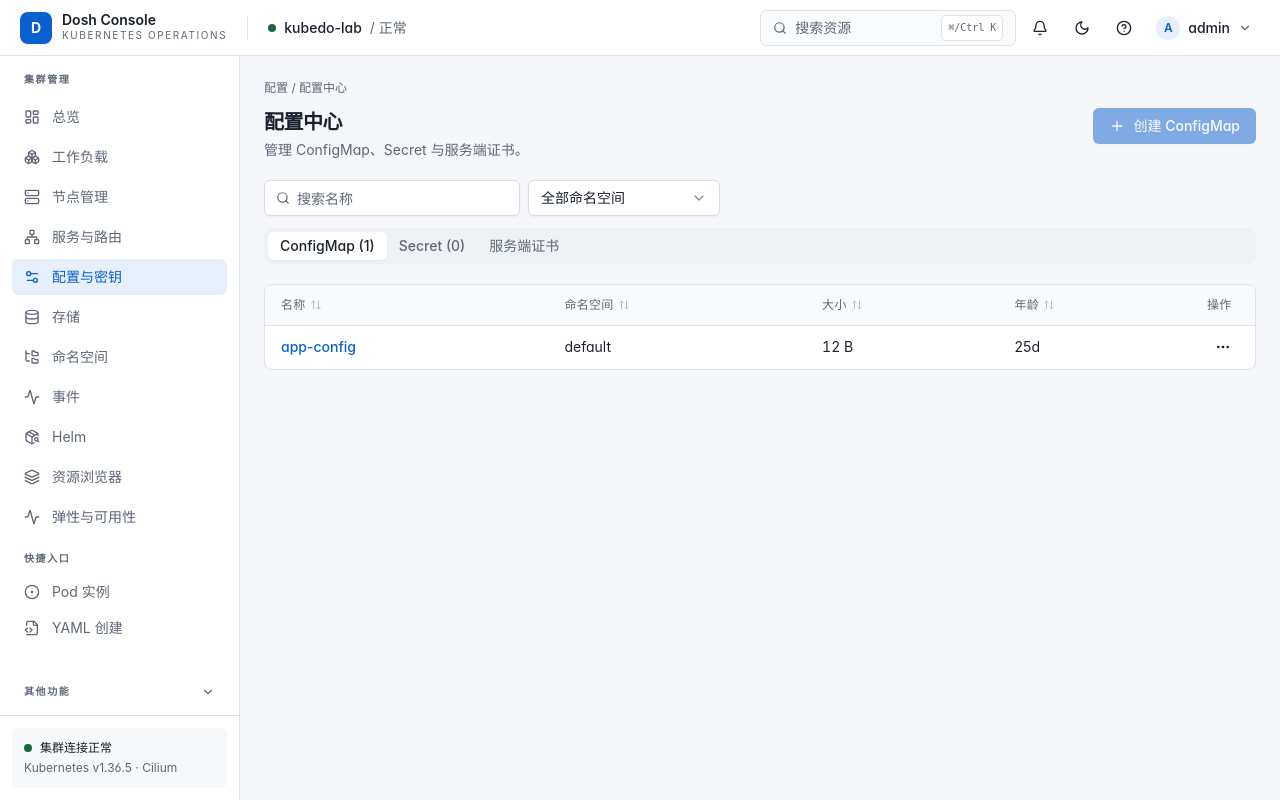
Test: dosh application › keeps ConfigMaps visible when Secret access is forbidden
Expected: the cell "app-config" is shown, [265, 325, 548, 369]
Expected: the text "没有访问权限" is not shown
Press the mouse on the tab "Secret (0)" at [432, 246], box [387, 232, 477, 260]
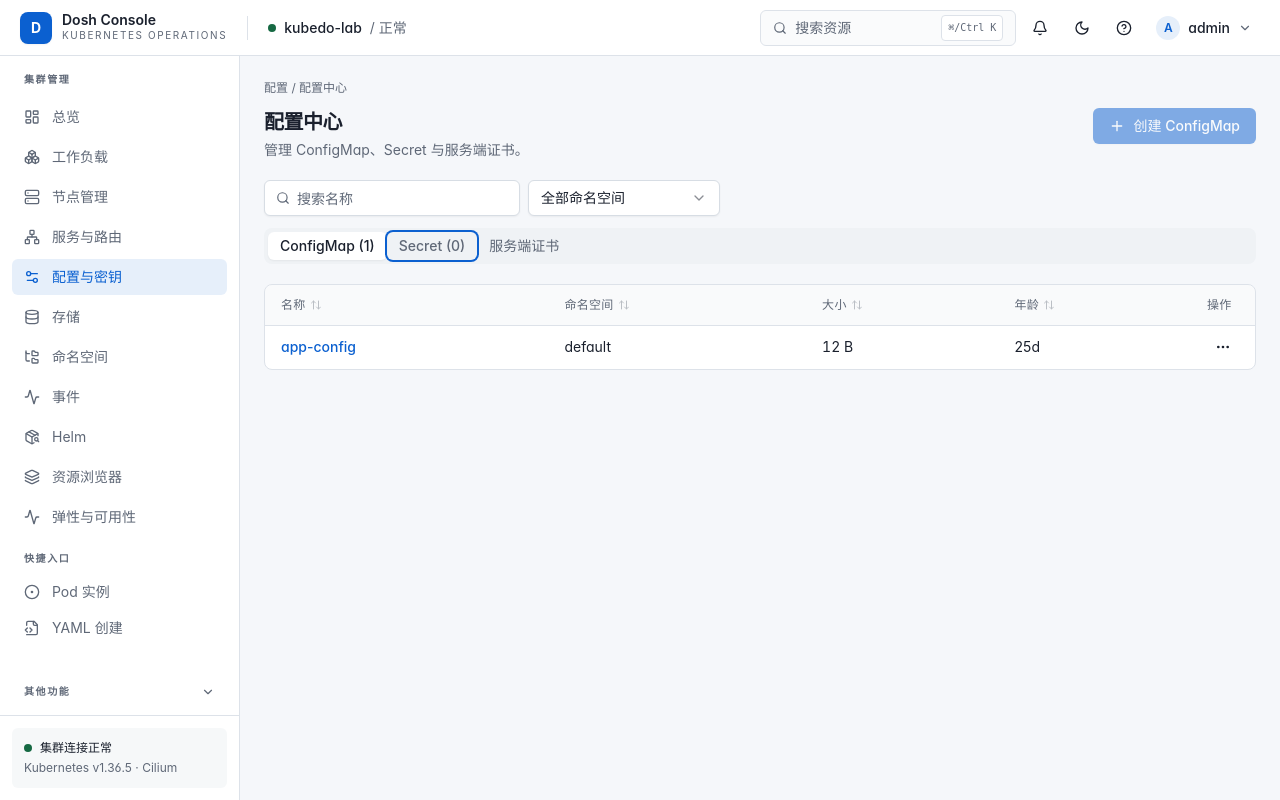
Click the tab "Secret (0)" at [432, 246], box [387, 232, 477, 260]
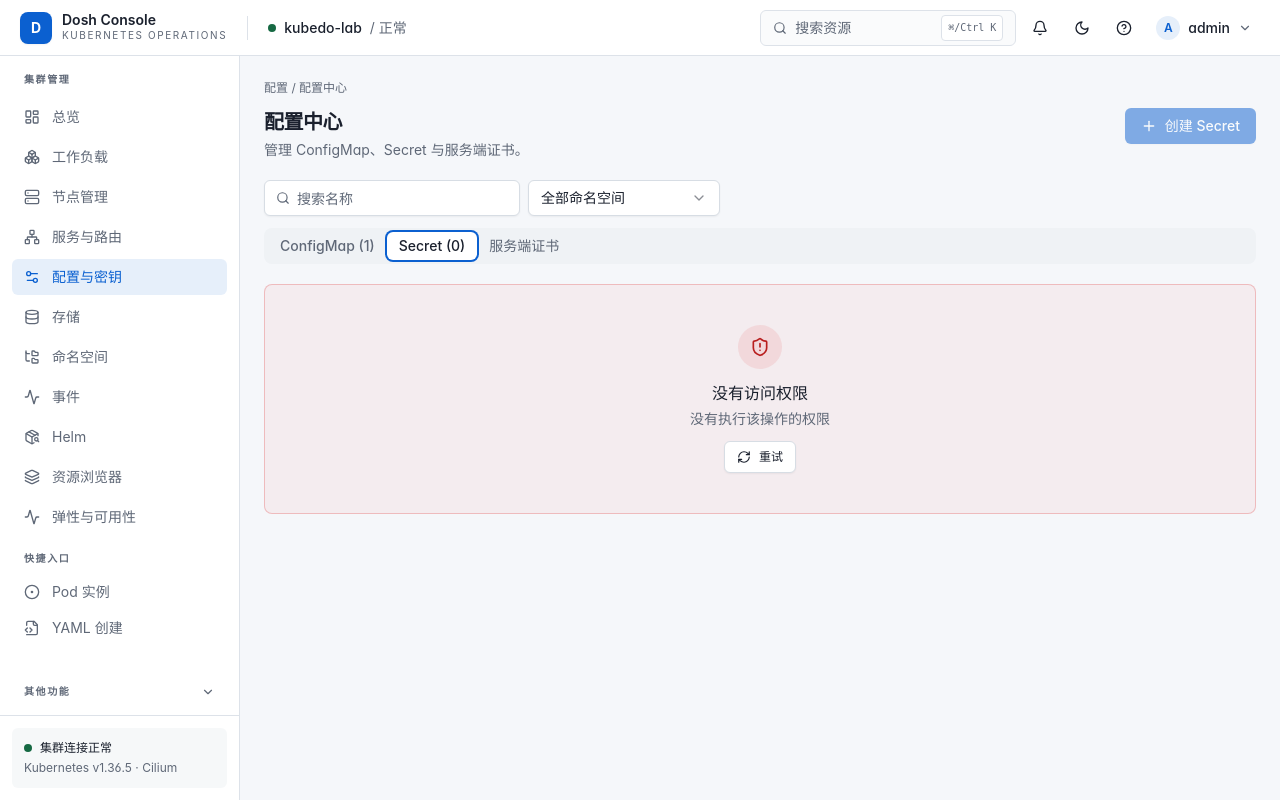
Result: the text "没有访问权限" is shown at [712, 383, 808, 403]
